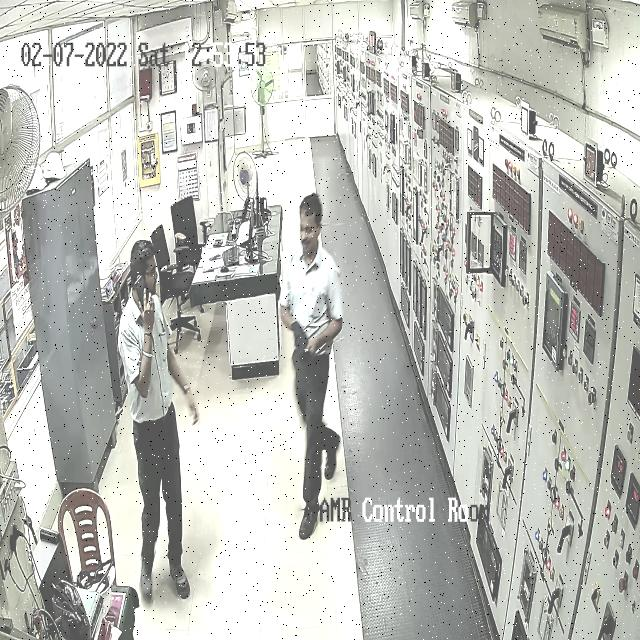Boots: (166, 562, 198, 597), (137, 551, 158, 601), (304, 492, 318, 548), (324, 425, 334, 488)
